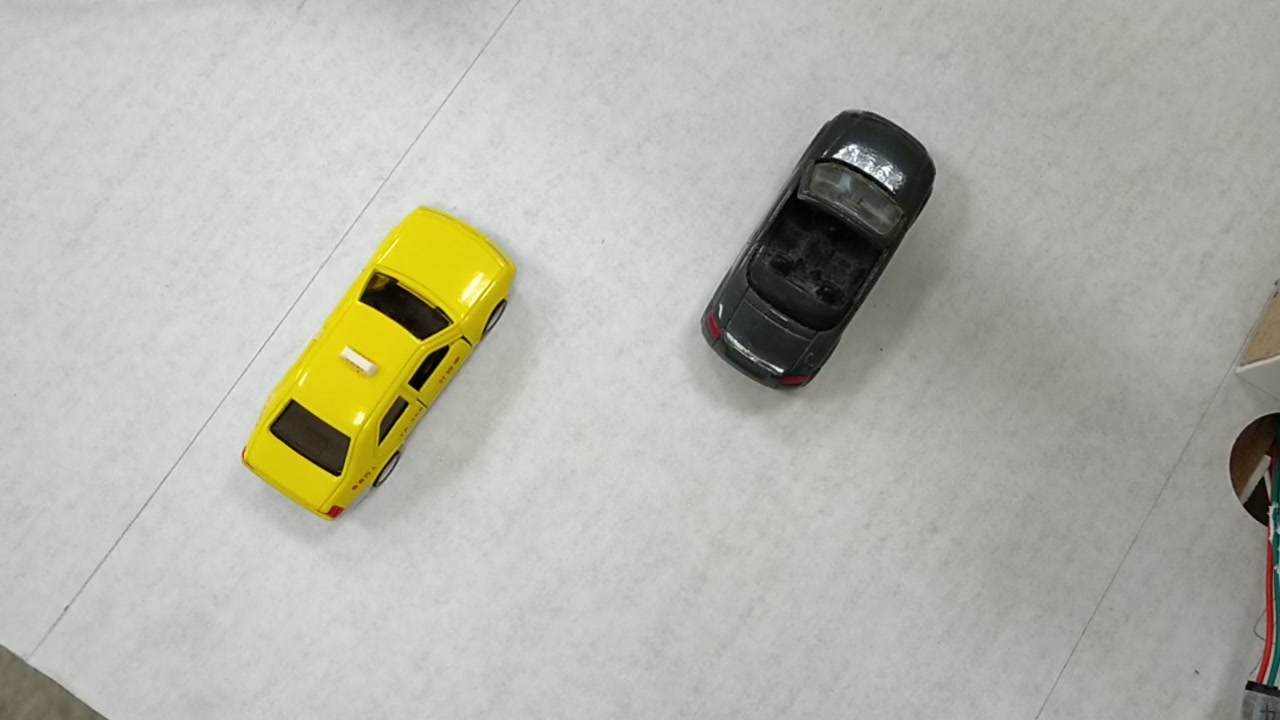car: (241, 203, 518, 529), (697, 113, 936, 394)
